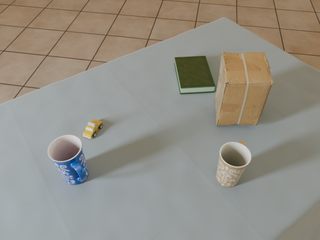book: (174, 56, 215, 94)
box: (215, 52, 274, 126)
cup: (48, 135, 89, 185), (216, 141, 251, 187)
toy_car: (83, 119, 103, 139)
